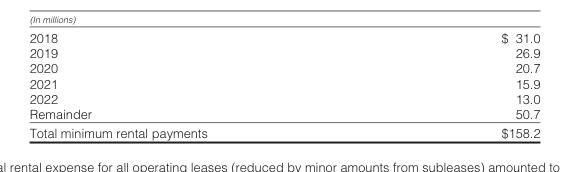table: (28, 29, 539, 140)
table column: (28, 29, 353, 140), (353, 29, 539, 140)
table row: (28, 105, 539, 123), (28, 123, 539, 140), (28, 59, 539, 75), (28, 29, 539, 44), (28, 44, 539, 59), (28, 75, 539, 90), (28, 90, 539, 105)
